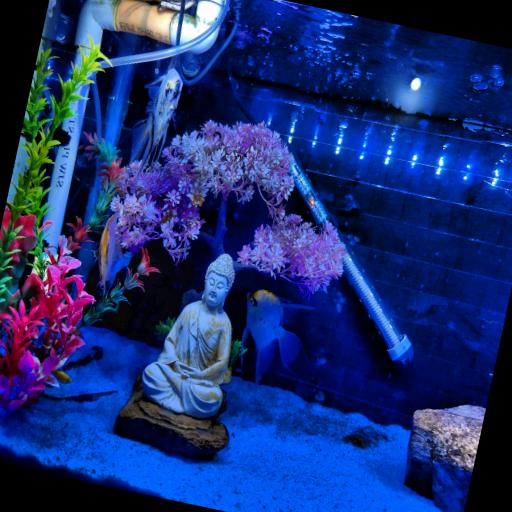Fish: (241, 290, 311, 384), (129, 68, 181, 182), (97, 212, 131, 287), (51, 370, 71, 383), (47, 0, 55, 17)
